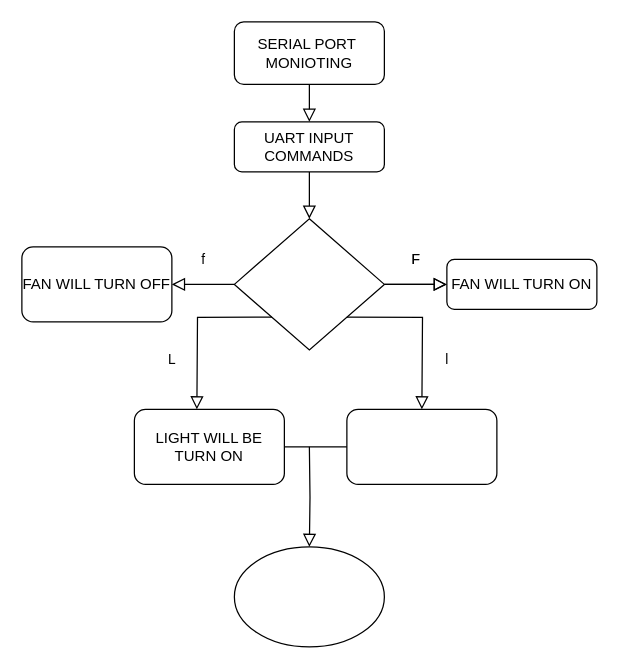
Image size: 619x669. Some labels were removed from this diagram. The shapes that lost their labels are listed below. From the top down, each one's centre as x and y in pixels, then its label:
At [308,284]: "CHECK COMMAND".
At [421,446]: "LIGHT WILL BE TURN OFF".
At [308,596]: "END".
